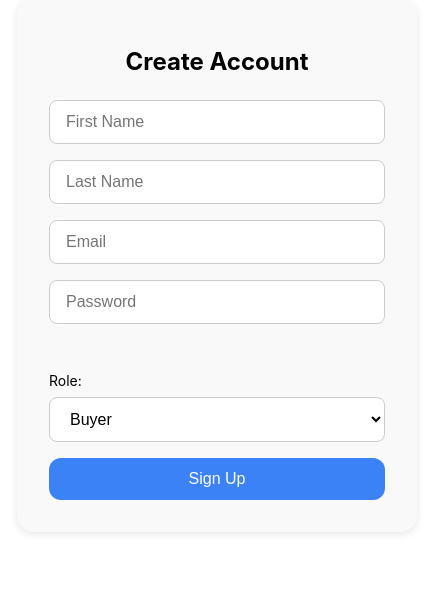
Test case: SignUp Component › Given Firebase signup fails, Then it should show the error message
This screenshot has width=435, height=596.
Type "Test" into the field with placeholder "First Name". click: (217, 122)
box: [49,100,385,144]
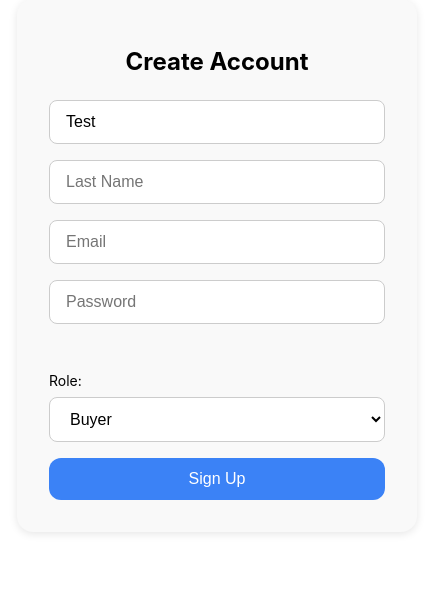
Type "User" into the field with placeholder "Last Name". click: (217, 182)
box: [49,160,385,204]
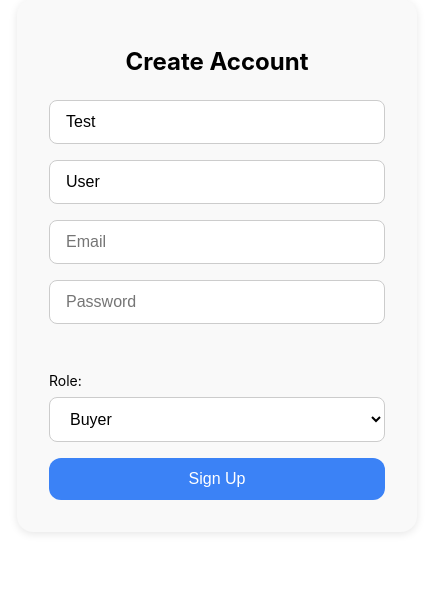
Type "fail@example.com" into the field with placeholder "Email". click: (217, 242)
box: [49,220,385,264]
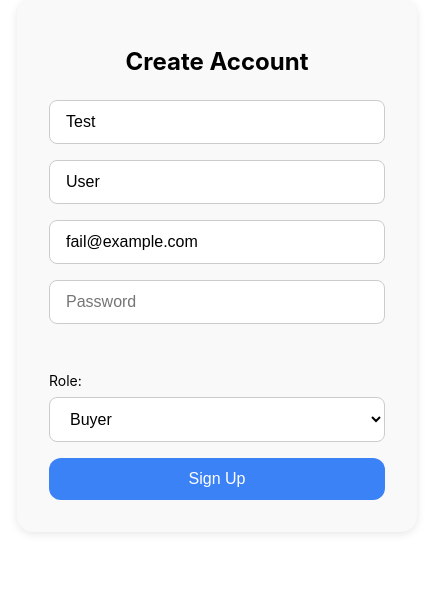
Type "password123" into the password field with placeholder "Password". click: (217, 302)
box: [49,280,385,324]
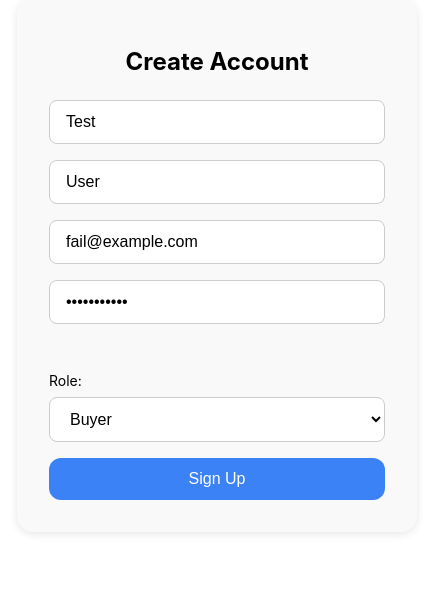
Click the button "Sign Up". click: (217, 479)
box: [49,458,385,500]
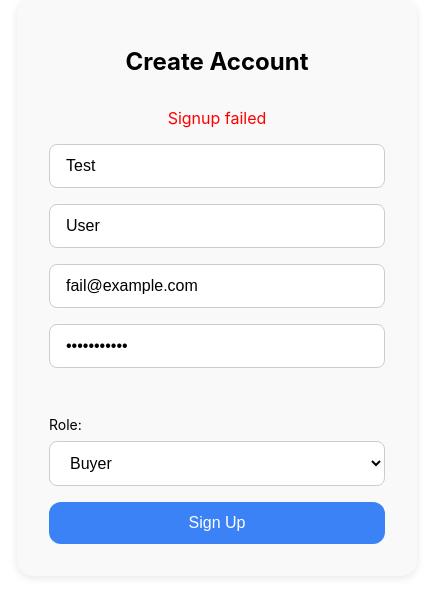
Expected: the text "Signup failed" is shown, [168,108,266,128]
